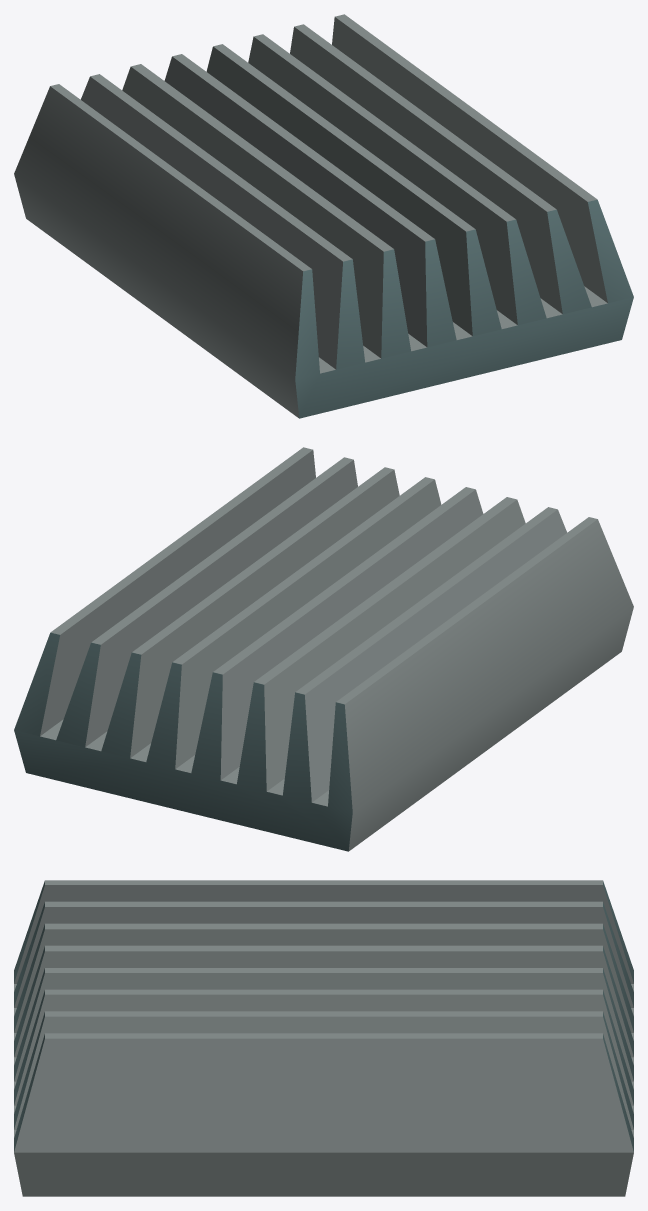
File: RadiatorModule.fbx
The picture shows the model from 3 angles, top to bottom: view 1: azimuth 30°, elevation 25°; view 2: azimuth 150°, elevation 25°; view 3: azimuth 270°, elevation 25°; orthographic projection. The views are drawn at different scales.
Visible parts, largest first — view 1: RadiatorModule; view 2: RadiatorModule; view 3: RadiatorModule.
Part boxes in pixels (x1,y1,x2,y2): RadiatorModule: (14,14,633,418); RadiatorModule: (14,447,633,851); RadiatorModule: (14,880,633,1196).
Size of the model in its own units: 14.59 by 5.62 by 20.98.
